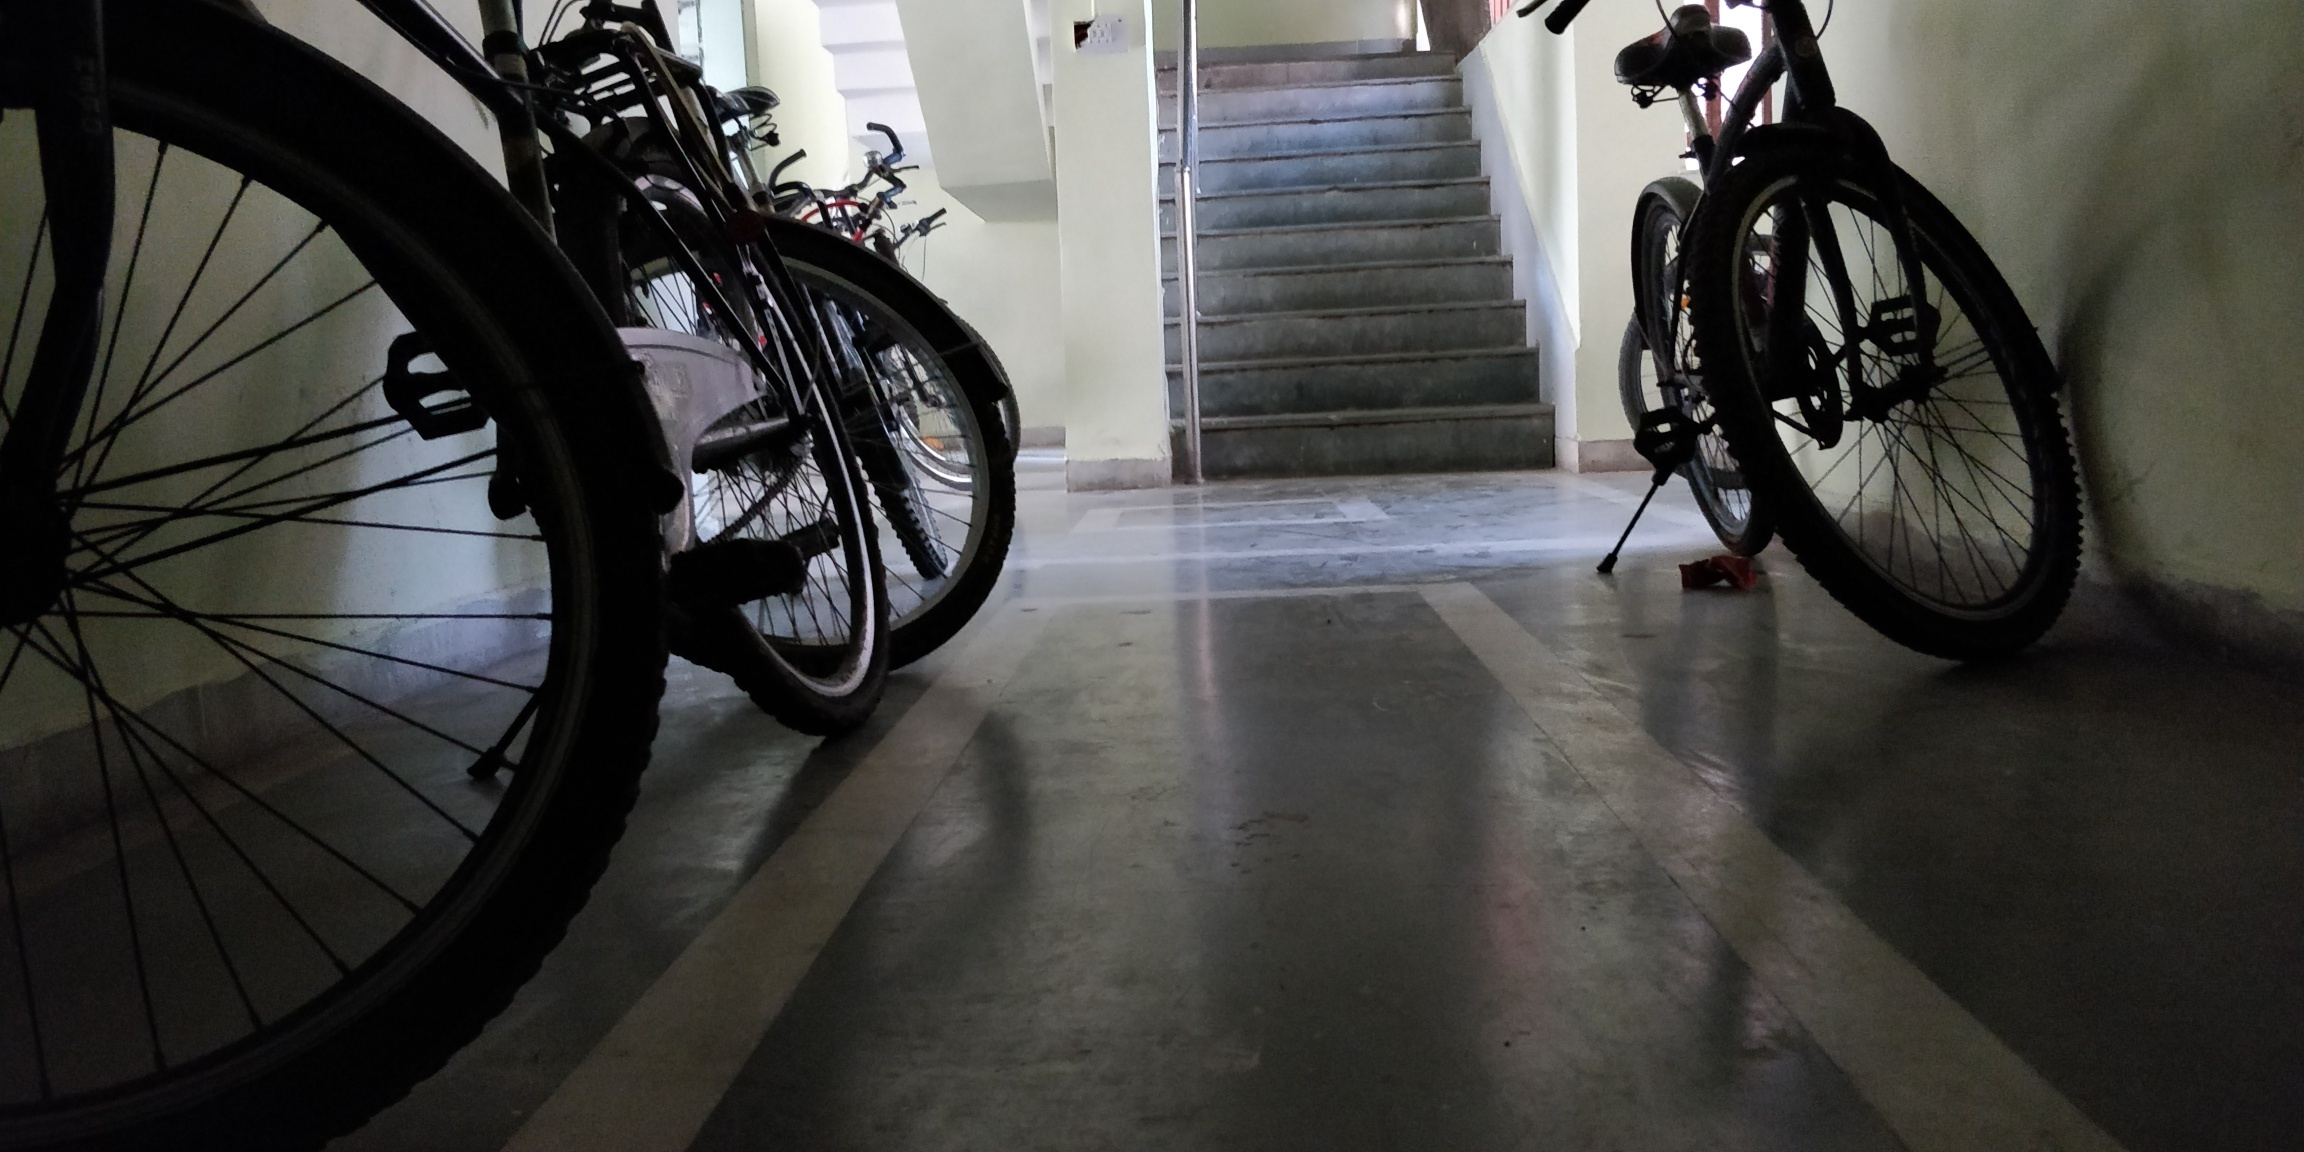stairs_up: (1161, 82, 1566, 458)
